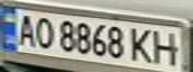6: (90, 21, 109, 57)
8: (54, 17, 78, 53), (106, 24, 127, 61), (72, 20, 93, 55)
A: (12, 11, 39, 47)
H: (148, 28, 187, 66)
K: (127, 26, 157, 64)
O: (30, 15, 57, 49)
